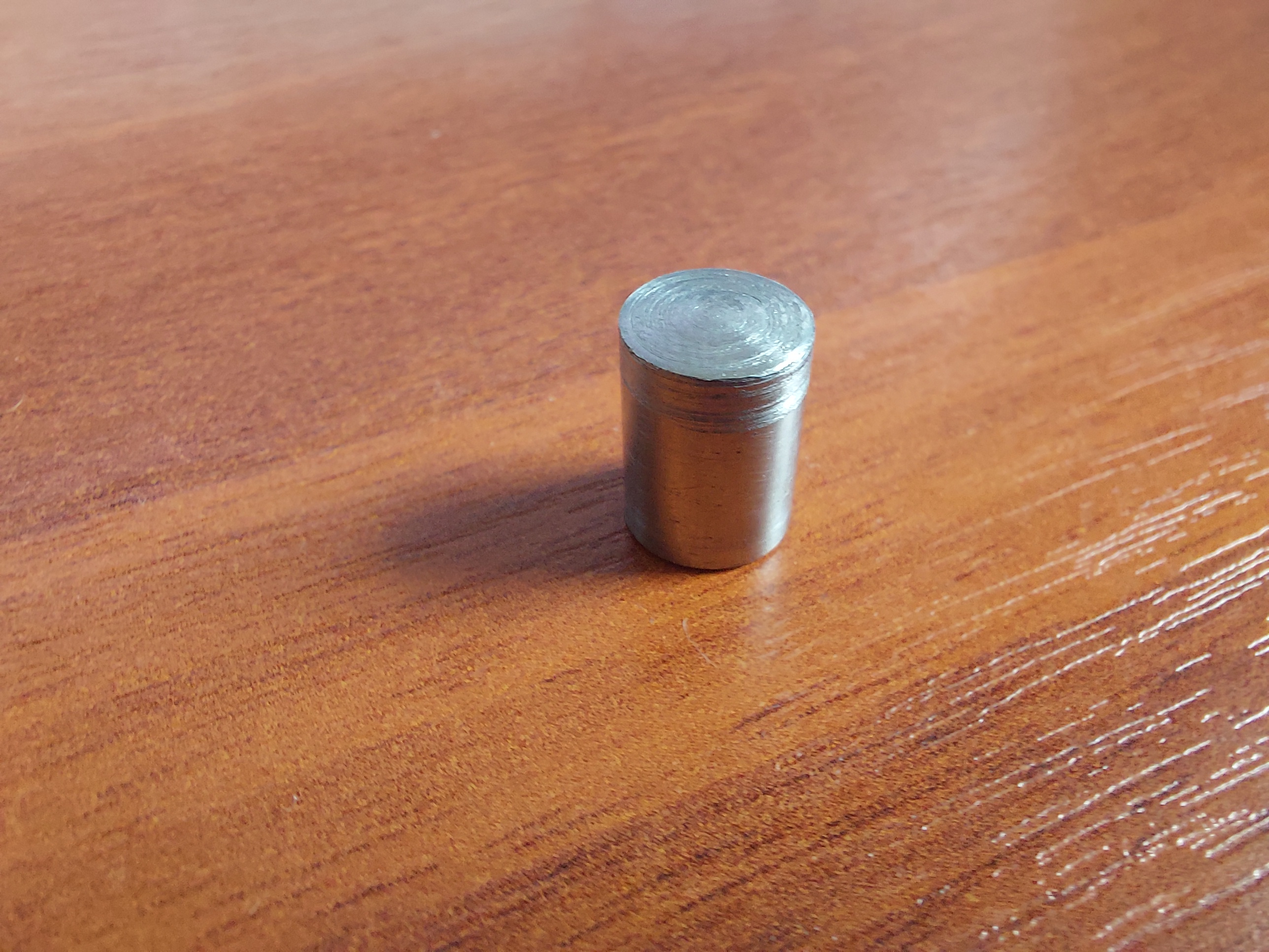tablet: (622, 269, 816, 571)
